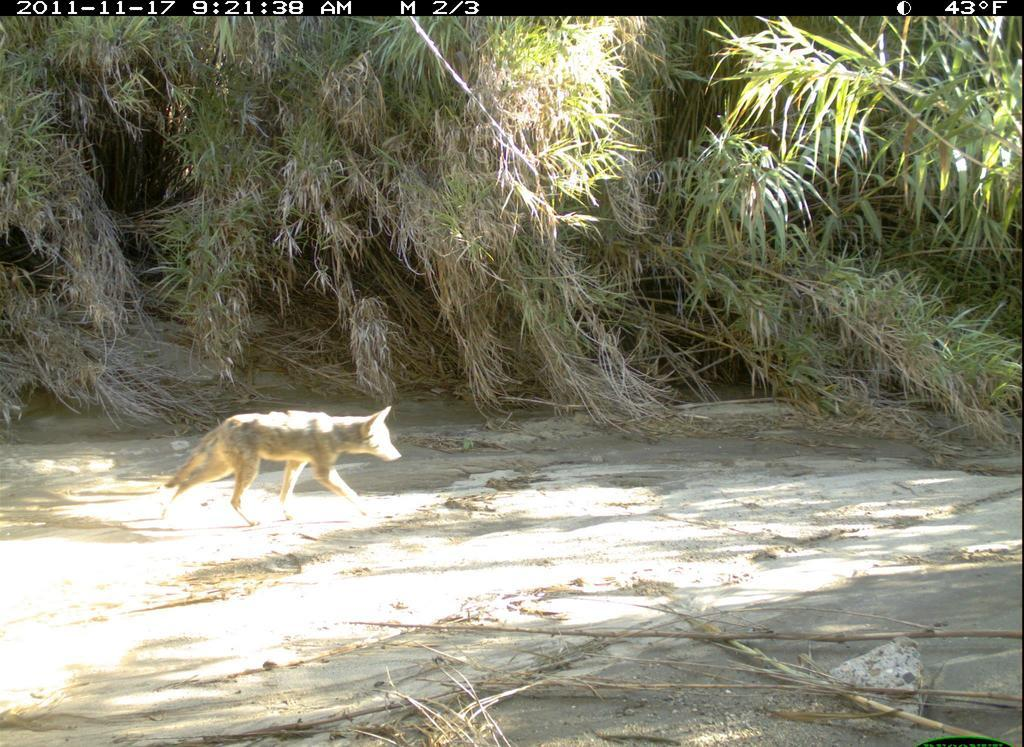coyote: (146, 381, 445, 557)
